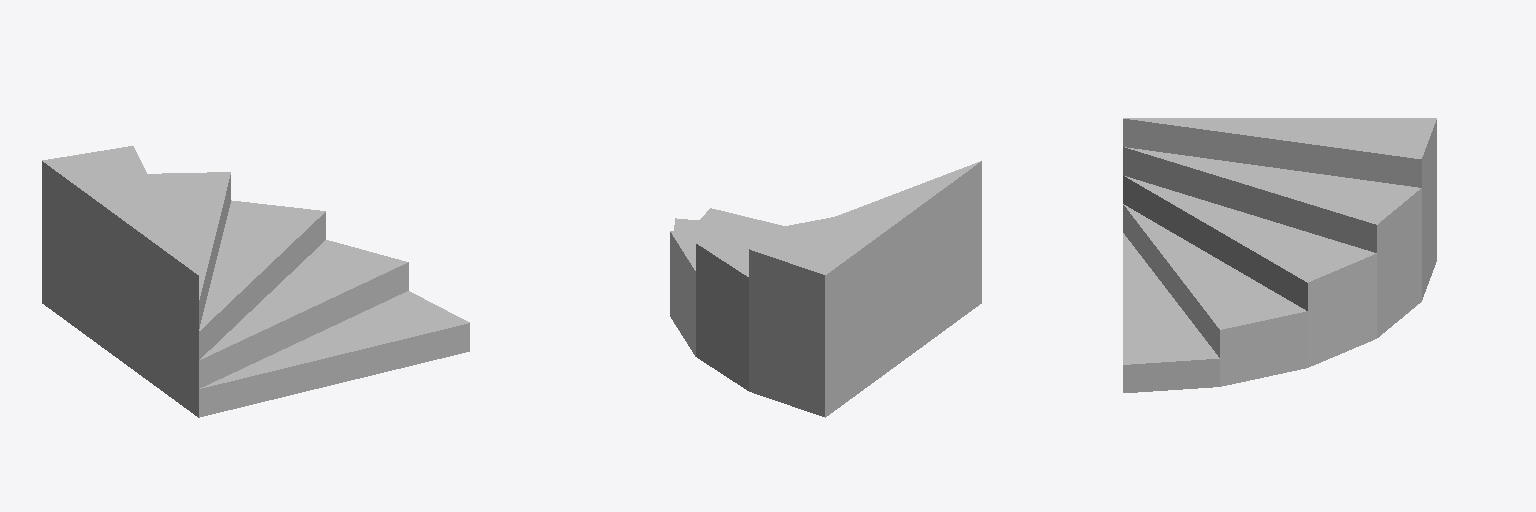
Rendered from Steps_Curved.obj.
3 views of the same model, side by side, from view 1: azimuth 30°, elevation 25°; view 2: azimuth 150°, elevation 25°; view 3: azimuth 270°, elevation 25° (orthographic).
Visible parts, largest first — view 1: object1; view 2: object1; view 3: object1.
Part boxes in pixels (bbox=[...]): object1: bbox=[42, 146, 469, 417]; object1: bbox=[670, 161, 981, 417]; object1: bbox=[1123, 118, 1436, 392].
Size of the model in its own units: 1 by 0.5 by 1.